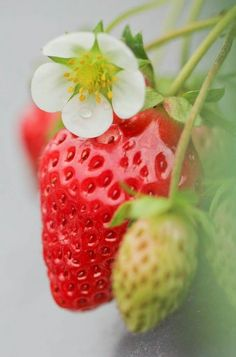ripe: (36, 92, 201, 311)
unripe: (105, 193, 197, 334)
